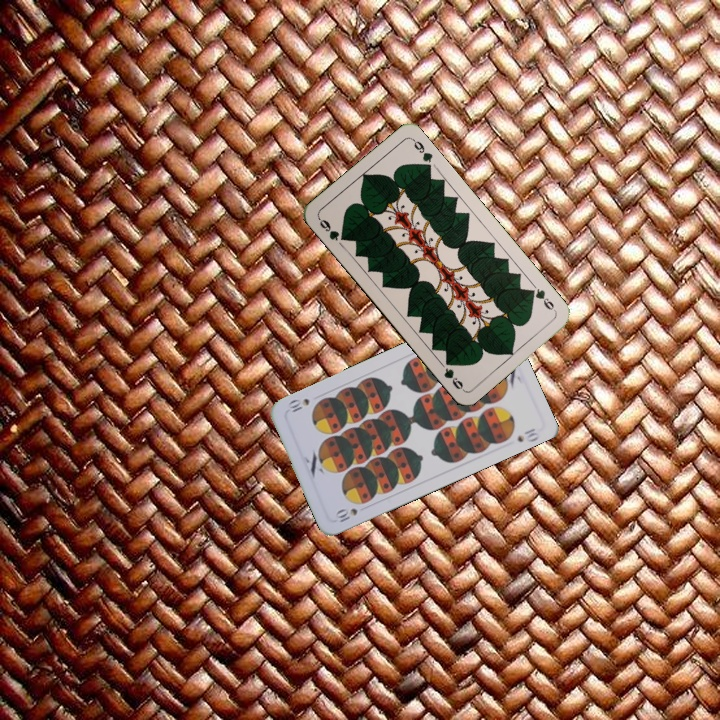G9: (525, 280, 559, 315), (314, 214, 349, 244)
S10: (331, 504, 360, 525)
